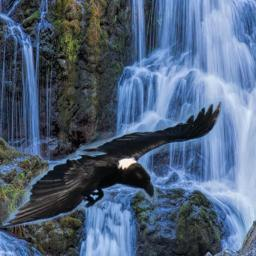Crow: (0, 98, 224, 228)
